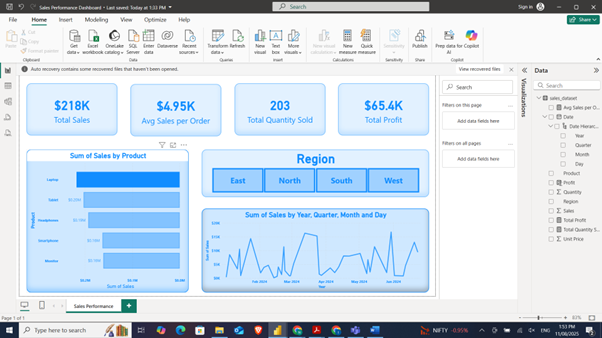

The dashboard page shown, as its layout file describes it:
{"tool":"powerbi","page":{"name":"Sales Performance","canvas":[1280,720],"ordinal":0},"visuals":[{"type":"card","fields":{"Values":["Sum(sales_dataset.Sales)"]},"box":[22,64.5,280,160.5],"z":0},{"type":"clusteredBarChart","fields":{"Category":["sales_dataset.Product"],"Y":["Sum(sales_dataset.Sales)"]},"box":[22,267.6,499.5,441.9],"z":1000},{"type":"slicer","title":"Region","fields":{"Values":["sales_dataset.Region"]},"box":[561.2,267.6,699.8,146.8],"z":2000},{"type":"lineChart","fields":{"Category":["sales_dataset.Date.Variation.Date Hierarchy.Year","sales_dataset.Date.Variation.Date Hierarchy.Quarter","sales_dataset.Date.Variation.Date Hierarchy.Month","sales_dataset.Date.Variation.Date Hierarchy.Day"],"Y":["Sum(sales_dataset.Sales)"]},"box":[561.2,450.1,699.8,259.3],"z":3000},{"type":"card","fields":{"Values":["sales_dataset.Avg Sales per Order"]},"box":[341.7,65.9,279.9,160.5],"z":4000},{"type":"card","fields":{"Values":["sales_dataset.Total Quantity Sold"]},"box":[662.8,64.5,279.9,160.5],"z":5000},{"type":"card","fields":{"Values":["sales_dataset.Total Profit"]},"box":[981.1,64.5,279.9,160.5],"z":6000}]}

Visuals, with their boxes on the page's 1280x720 design canvas (x1, y1, x2, y2). These are canvas units, not pixel positions in the 602x338 screenshot, which may show the page scaled, cropped or inside an application window:
card - Sum(sales_dataset.Sales): x1=22 y1=64 x2=302 y2=225
clusteredBarChart - sales_dataset.Product x Sum(sales_dataset.Sales): x1=22 y1=268 x2=522 y2=710
"Region" slicer: x1=561 y1=268 x2=1261 y2=414
lineChart - sales_dataset.Date.Variation.Date Hierarchy.Year x sales_dataset.Date.Variation.Date Hierarchy.Quarter: x1=561 y1=450 x2=1261 y2=709
card - sales_dataset.Avg Sales per Order: x1=342 y1=66 x2=622 y2=226
card - sales_dataset.Total Quantity Sold: x1=663 y1=64 x2=943 y2=225
card - sales_dataset.Total Profit: x1=981 y1=64 x2=1261 y2=225
